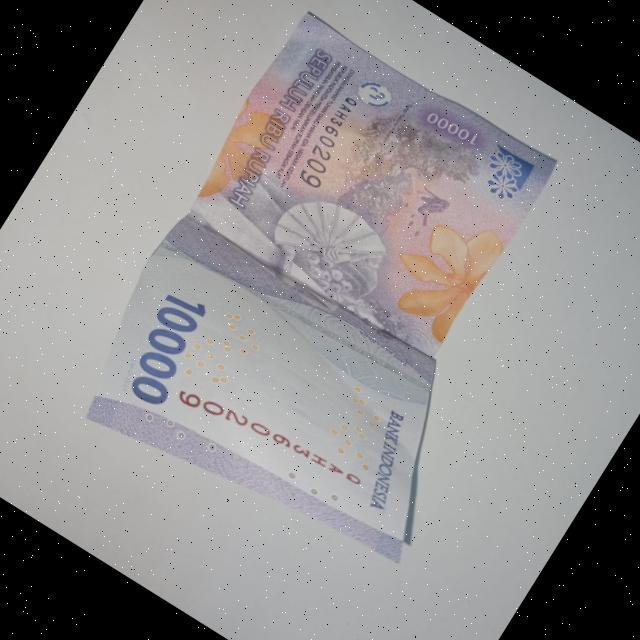10K: (43, 0, 638, 611)
